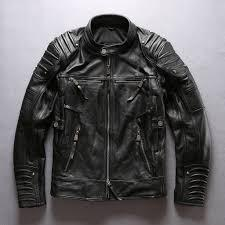jacket: (14, 15, 206, 207)
